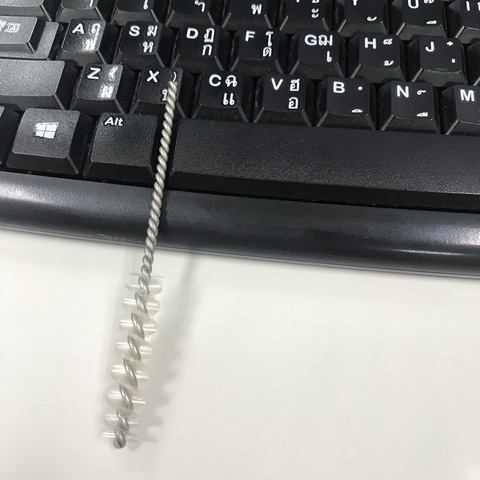Twist Brush-B: (95, 78, 181, 451)
